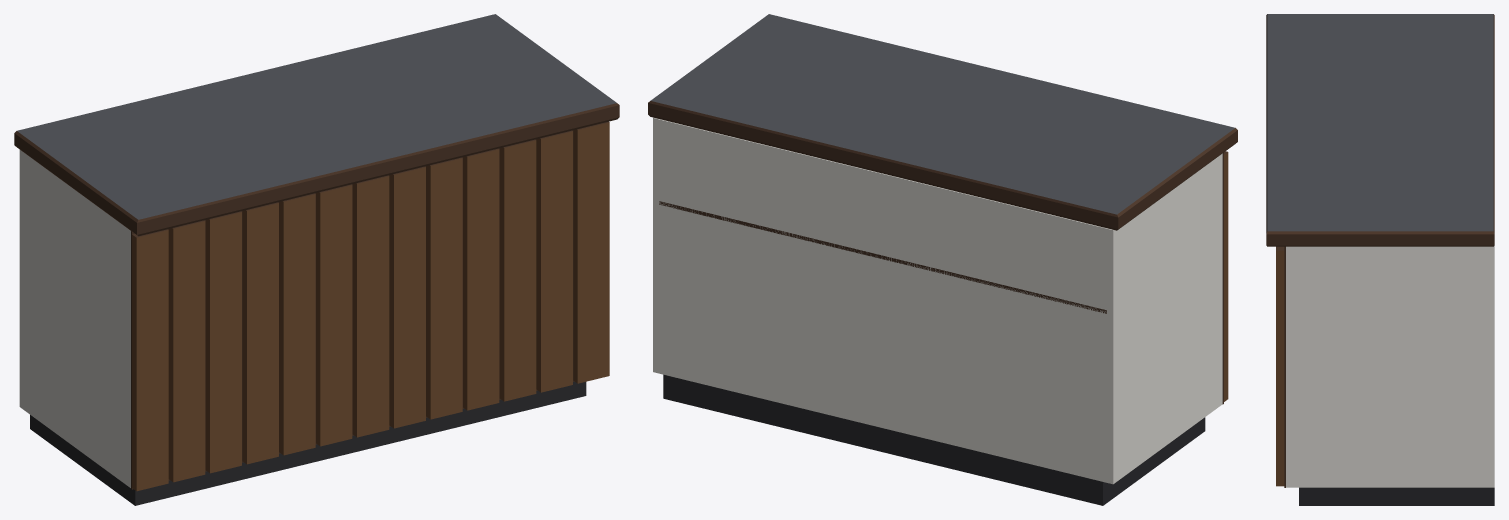
Rendered from FN_Desk_Reception.obj.
3 views of the same model, side by side, from view 1: azimuth 30°, elevation 25°; view 2: azimuth 150°, elevation 25°; view 3: azimuth 270°, elevation 25° (orthographic). The views are drawn at different scales.
Visible parts, largest first — view 1: FN_Desk_Reception; view 2: FN_Desk_Reception; view 3: FN_Desk_Reception.
Boxes of the visible parts, x1=… form: FN_Desk_Reception: x1=14, y1=14, x2=619, y2=505; FN_Desk_Reception: x1=648, y1=14, x2=1237, y2=505; FN_Desk_Reception: x1=1266, y1=14, x2=1494, y2=505.
Size of the model in its own units: 1.84 by 1.1 by 0.81.
1 material, 1 textured.
